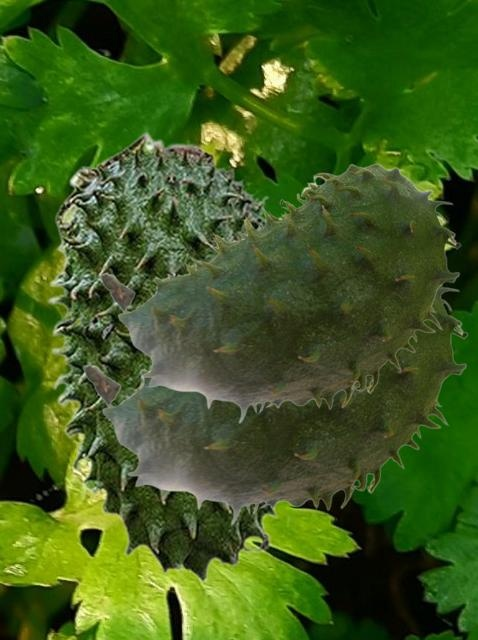guyabano: (47, 130, 293, 582), (99, 163, 460, 423), (82, 286, 467, 525)
